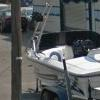Boat: (20, 15, 100, 100)
